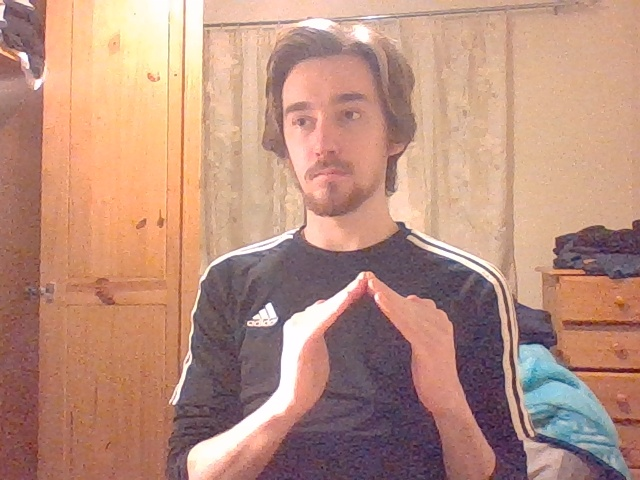home: (282, 270, 454, 357)
